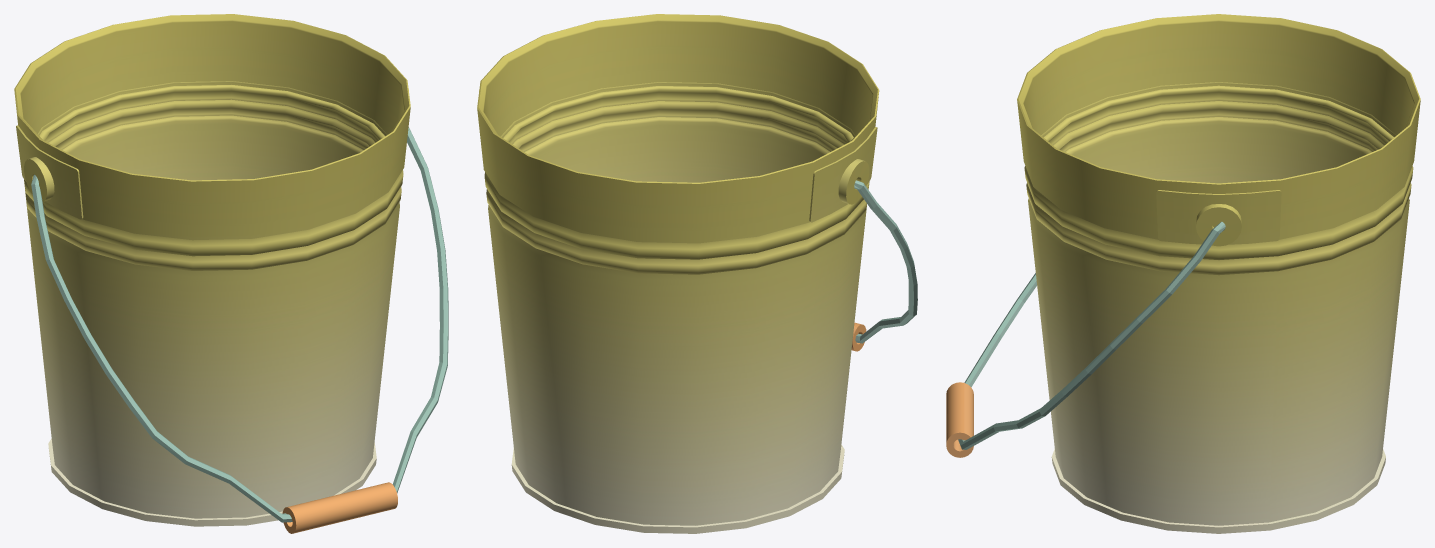
Rendered from SM_Bucket.fbx.
3 views of the same model, side by side, from view 1: azimuth 30°, elevation 25°; view 2: azimuth 150°, elevation 25°; view 3: azimuth 270°, elevation 25° (orthographic).
Parts seen in each view (by area): view 1: SM_Bucket_body, SM_Bucket_Rope, SM_Bucket_Handle, SM_Bucket_side, SM_Bucket_side3; view 2: SM_Bucket_body, SM_Bucket_side, SM_Bucket_Rope, SM_Bucket_side3; view 3: SM_Bucket_body, SM_Bucket_side, SM_Bucket_Rope, SM_Bucket_Handle, SM_Bucket_side2.
Part boxes in pixels (x1,y1,x2,y2): SM_Bucket_body: [14, 14, 410, 526]; SM_Bucket_Rope: [31, 127, 448, 522]; SM_Bucket_Handle: [282, 482, 397, 533]; SM_Bucket_side: [16, 89, 408, 219]; SM_Bucket_side3: [24, 157, 54, 201]; SM_Bucket_body: [477, 14, 879, 533]; SM_Bucket_side: [479, 90, 877, 222]; SM_Bucket_Rope: [854, 180, 917, 343]; SM_Bucket_side3: [838, 159, 869, 204]; SM_Bucket_body: [1017, 14, 1420, 533]; SM_Bucket_side: [1156, 190, 1281, 244]; SM_Bucket_Rope: [958, 221, 1225, 449]; SM_Bucket_Handle: [946, 382, 973, 457]; SM_Bucket_side2: [1196, 204, 1241, 246].
Bounding box in the file's own units: 33.27 × 29.99 × 35.35.
Materials: 1 (1 with a texture image).
